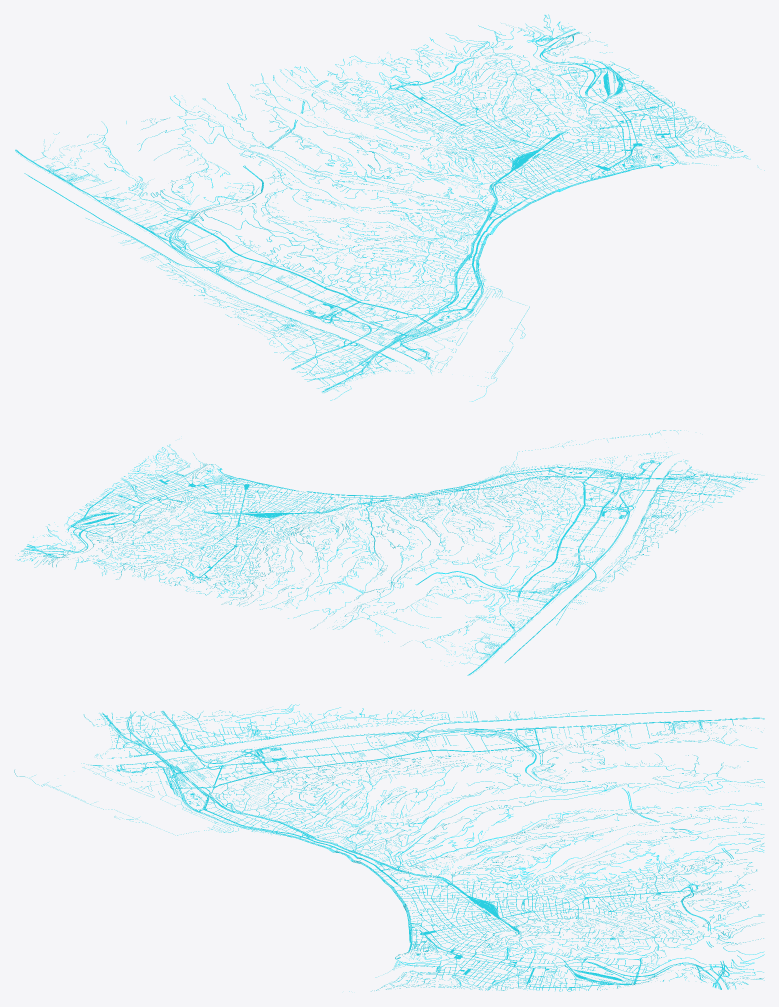
Rendered from nice_roads.glb.
3 views of the same model, one above another, from view 1: azimuth 30°, elevation 25°; view 2: azimuth 150°, elevation 25°; view 3: azimuth 270°, elevation 25° (orthographic). The views are drawn at different scales.
Visible parts, largest first — view 1: nice_roads; view 2: nice_roads; view 3: nice_roads.
Boxes of the visible parts, left/top/right/bottom form: nice_roads: left=15, top=14, right=764, bottom=401; nice_roads: left=15, top=430, right=757, bottom=675; nice_roads: left=14, top=704, right=764, bottom=991.
Size of the model in its own units: 9162 by 365 by 10352.
